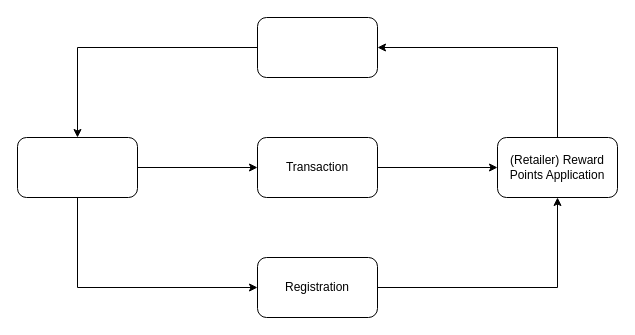
Some shapes in this 635 by 335 pixel diagram are drawn without their labels. The centre of each missing label's shape, as x and y in pixels:
Customer: point (77, 167)
Rewards: point (317, 47)
